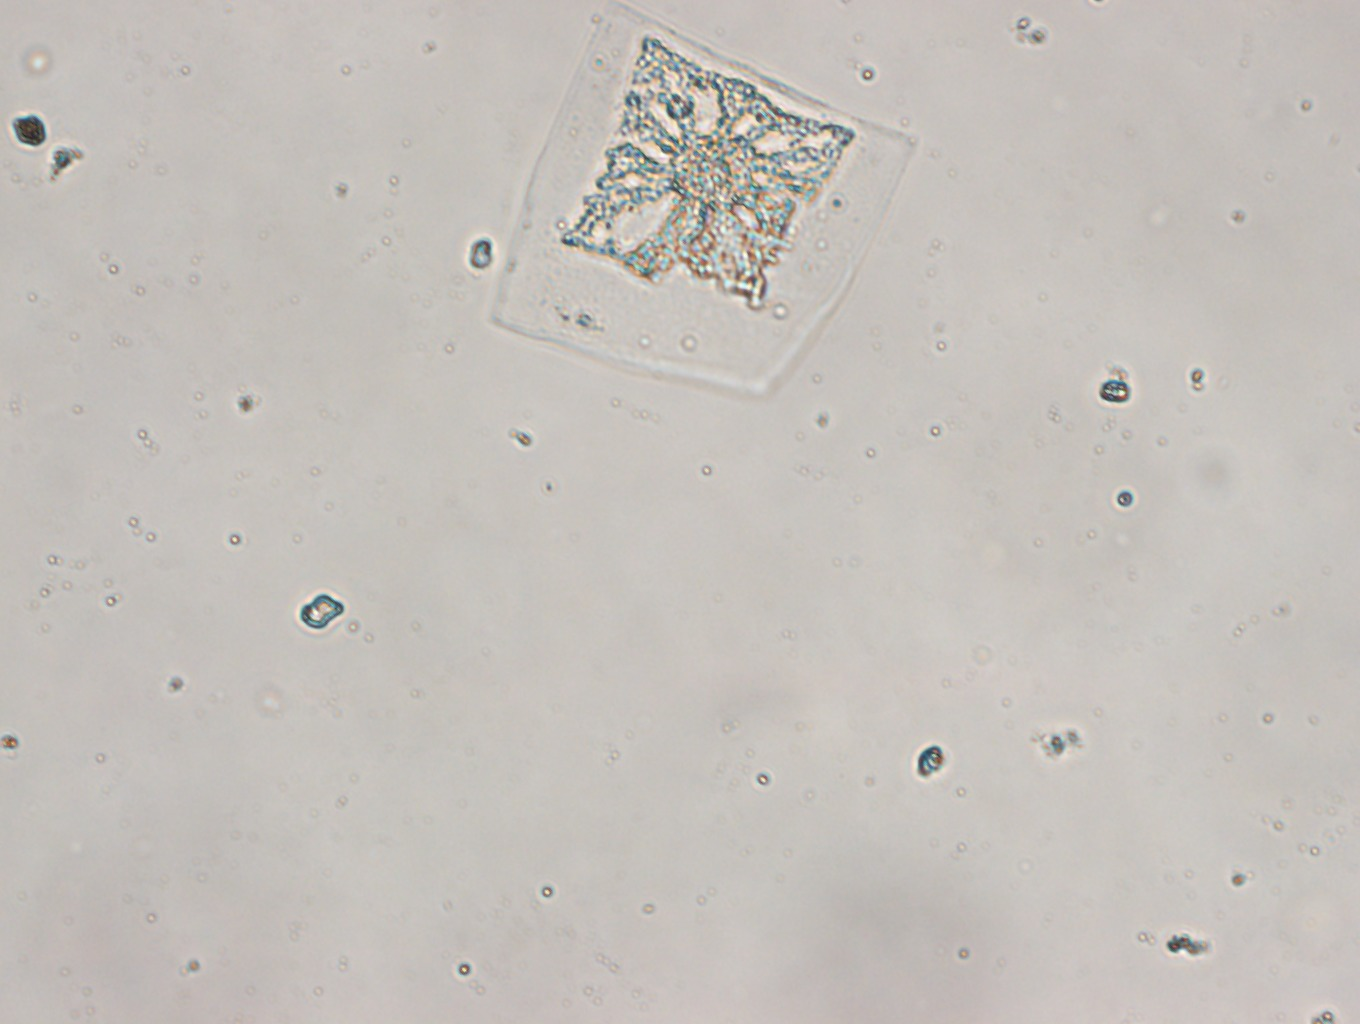helicotheca: (487, 5, 919, 404)
